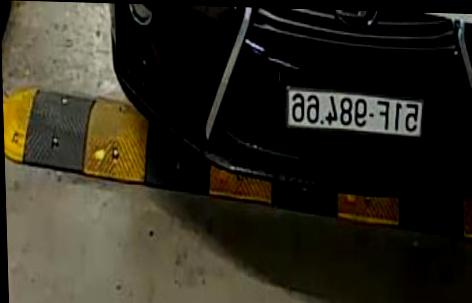License_Plate: (279, 89, 430, 140)
